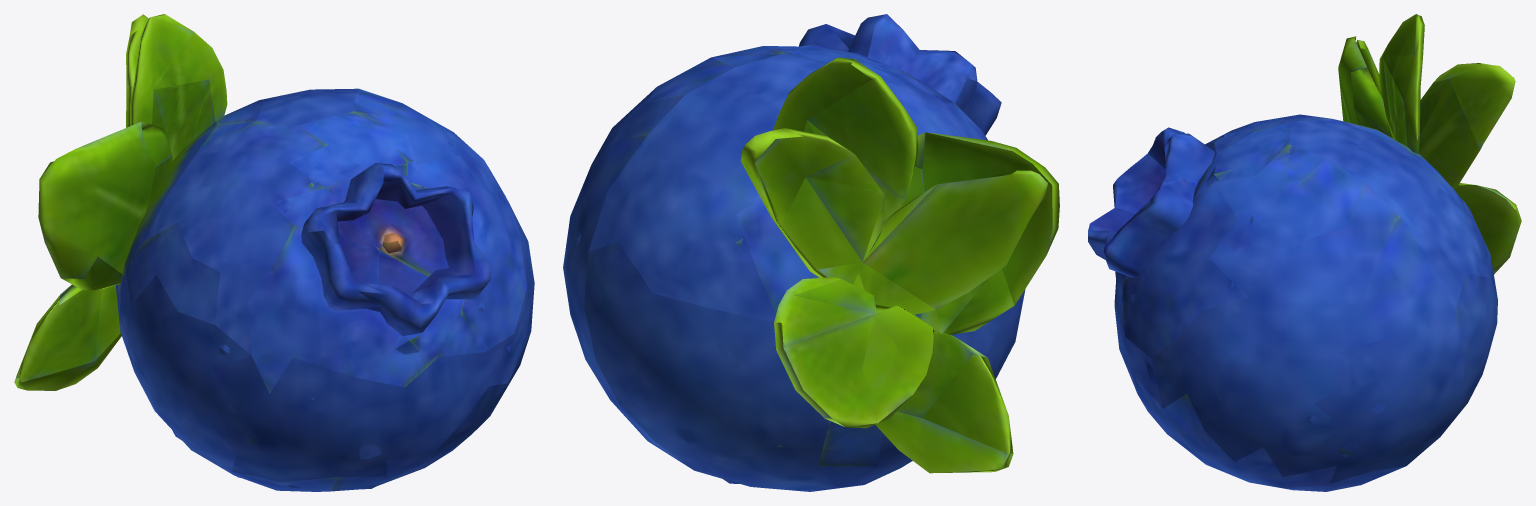
The model's file is blueberry.glb.
3 views of the same model, side by side, from view 1: azimuth 30°, elevation 25°; view 2: azimuth 150°, elevation 25°; view 3: azimuth 270°, elevation 25° (orthographic). The views are drawn at different scales.
Size of the model in its own units: 1 by 0.9551 by 0.9258.
1 material, 1 textured.
